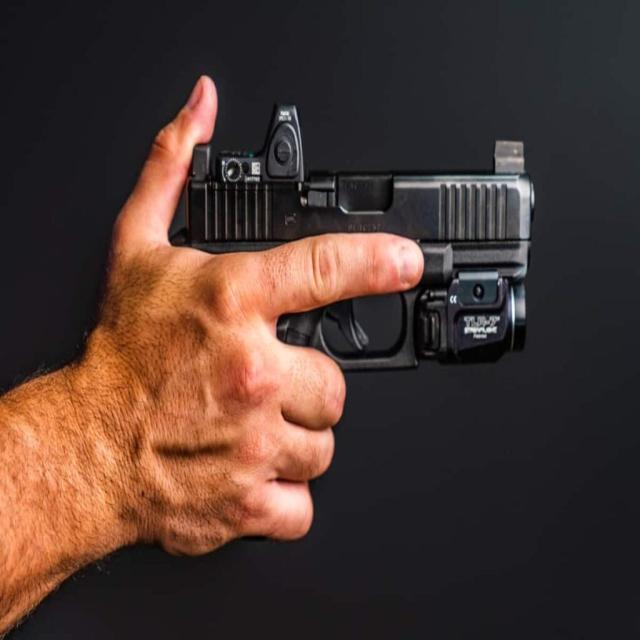HandGun: (168, 105, 534, 372)
